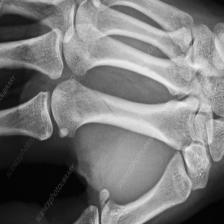spiral-fracture: (1, 0, 224, 224)
